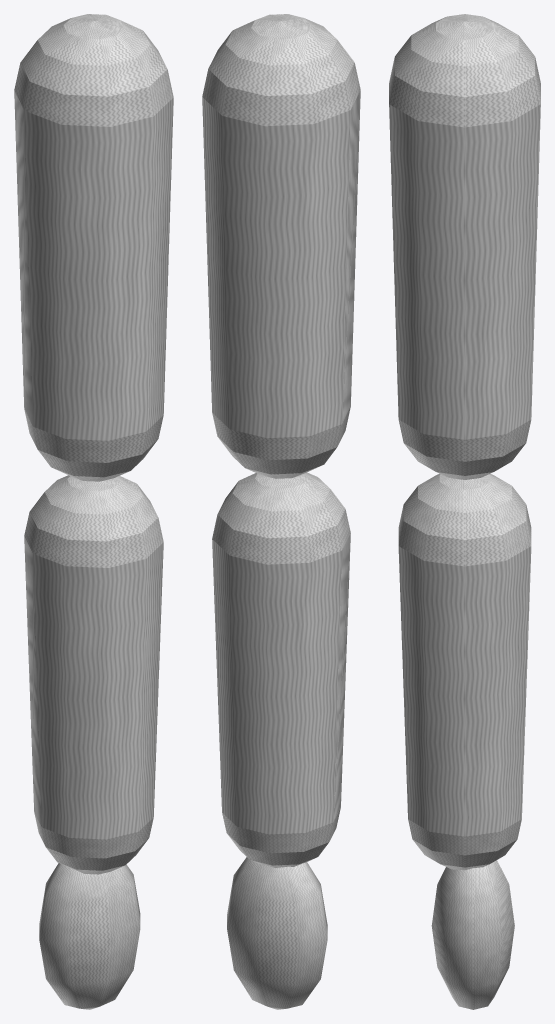
Rendered from char_thief_arm.obj.
3 renders of one model, left to right at view 1: azimuth 30°, elevation 25°; view 2: azimuth 150°, elevation 25°; view 3: azimuth 270°, elevation 25°, orthographic.
Visible parts, largest first — view 1: char_thief_arm; view 2: char_thief_arm; view 3: char_thief_arm.
Part boxes in pixels (x1,y1,x2,y2): char_thief_arm: (14,14,173,1009); char_thief_arm: (202,14,360,1009); char_thief_arm: (389,14,540,1009).
Bounding box in the file's own units: 0.096 × 0.655 × 0.0913.
Materials: 2 (2 with a texture image).
